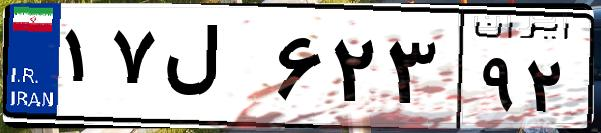1: (57, 26, 110, 100)
2: (330, 28, 385, 110), (525, 38, 570, 115)
3: (385, 28, 445, 110)
6: (270, 28, 330, 110)
7: (110, 28, 158, 98)
9: (475, 38, 525, 113)
ل: (158, 20, 270, 120)
